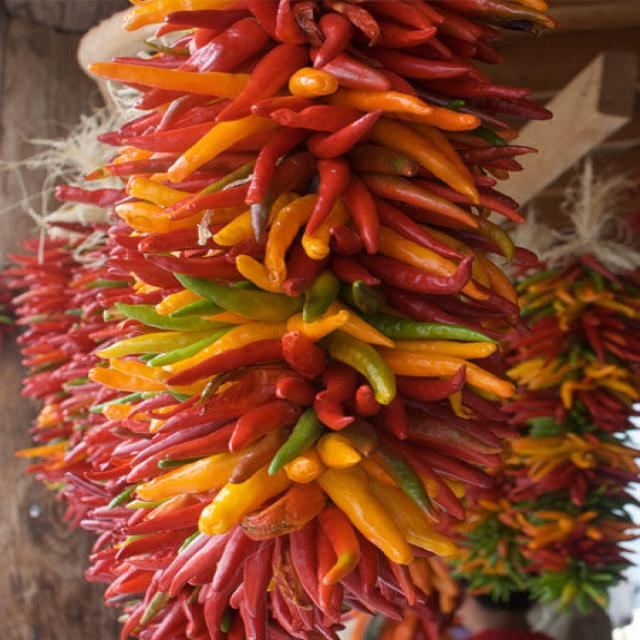Chilli Pepper: (28, 0, 550, 640), (33, 261, 493, 640), (26, 232, 567, 529), (85, 100, 529, 275), (438, 254, 640, 618), (92, 0, 548, 118)
